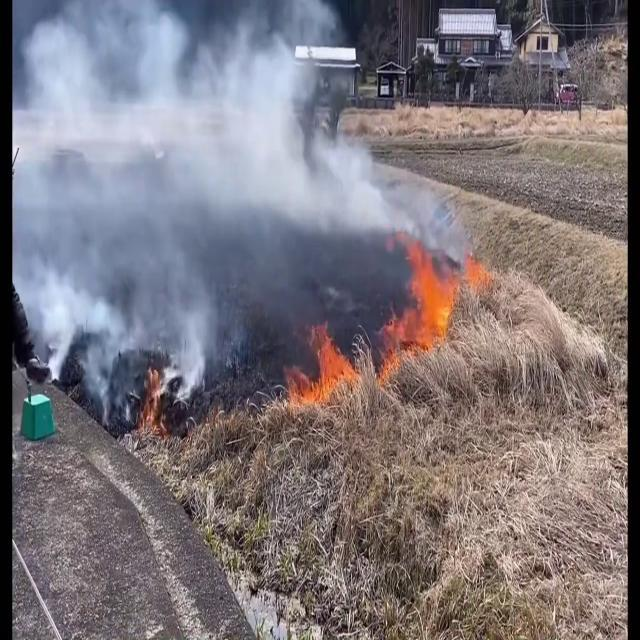Fire: (388, 238, 492, 360), (284, 322, 364, 410)
Smoke: (14, 0, 438, 400)
